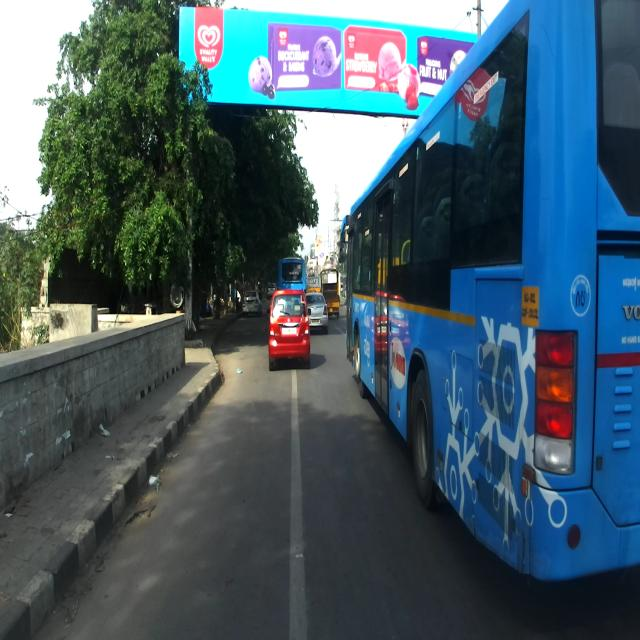bus ahead at: (336, 0, 639, 594)
car ahead at: (263, 289, 314, 369)
